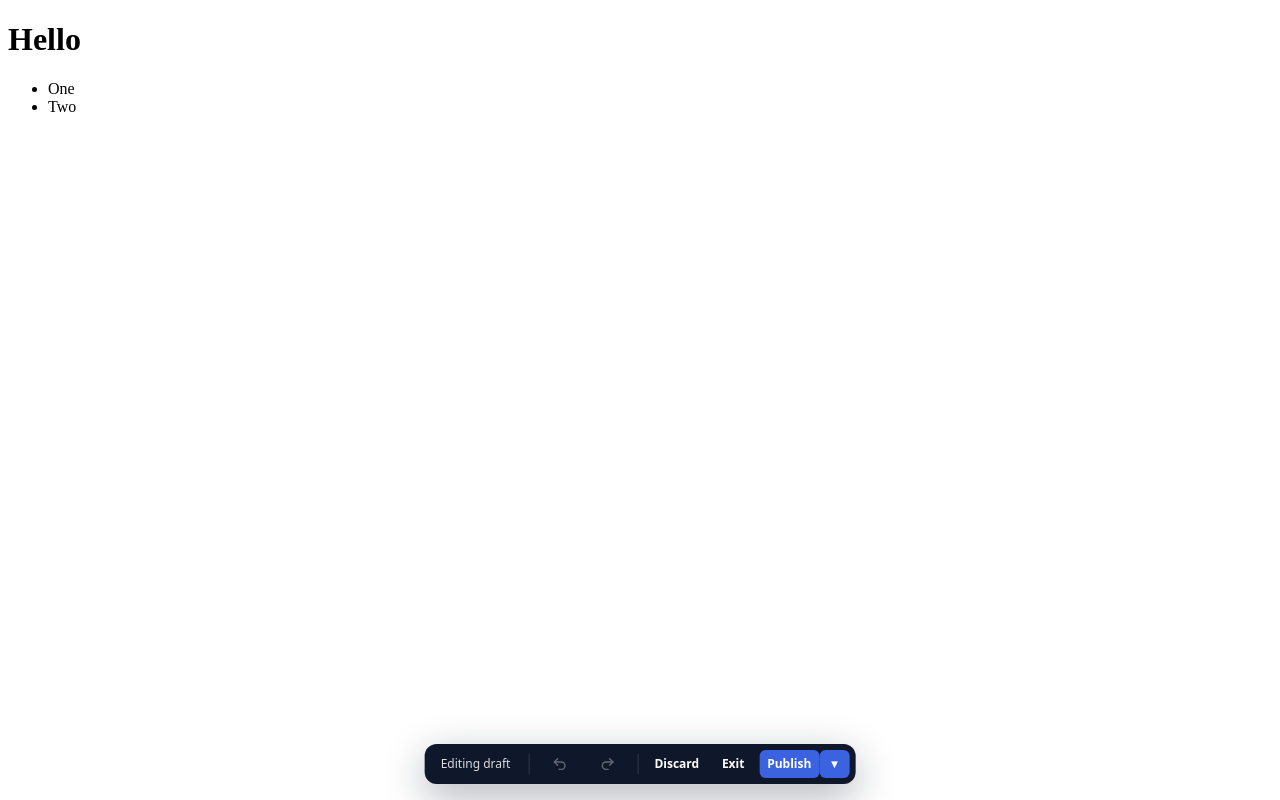
Test case: OnPageEditor › click a field, type, commit: the change is saved
Check: the message with test id "onpage-status" reads "Editing draft", box 441,755 -> 510,772
Click the heading "Hello" at (44, 39), box 8,21 -> 81,57
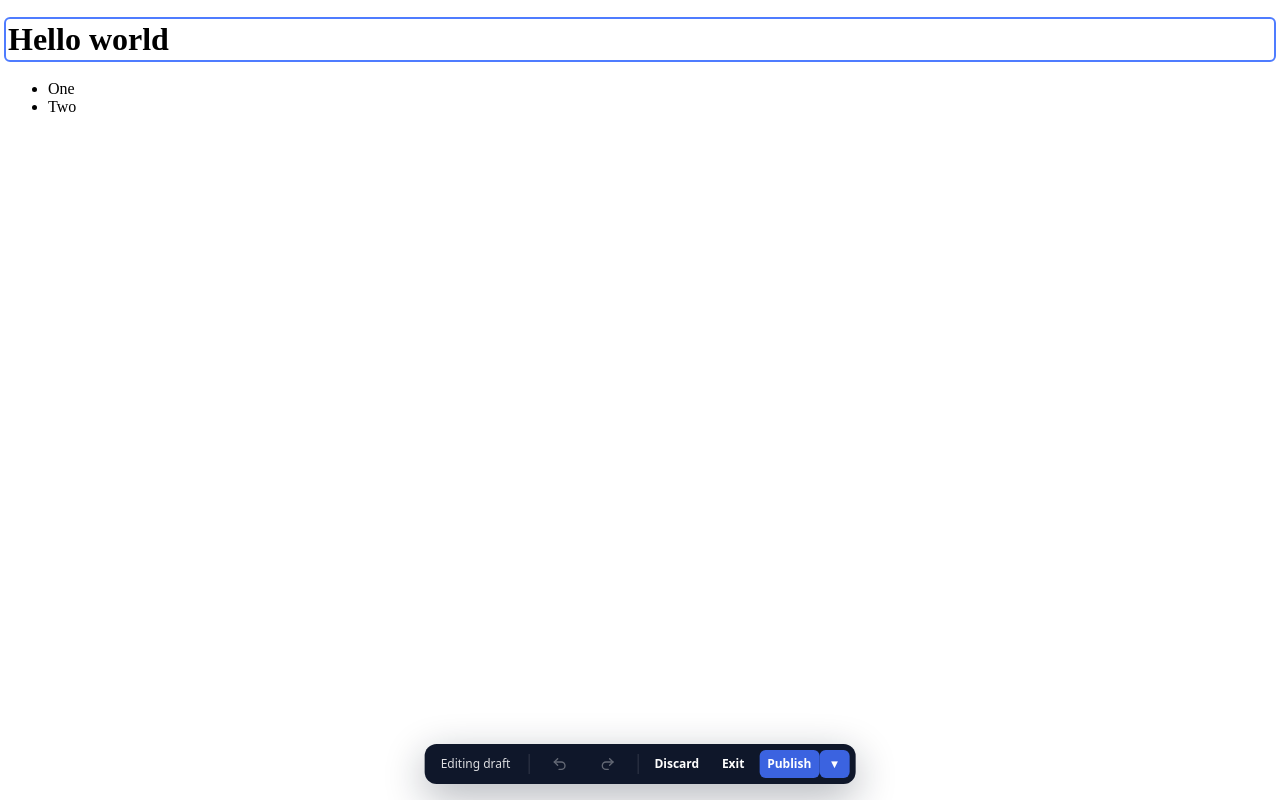
Press Enter in the field with test id "onpage-inline-text", box 8,21 -> 169,57
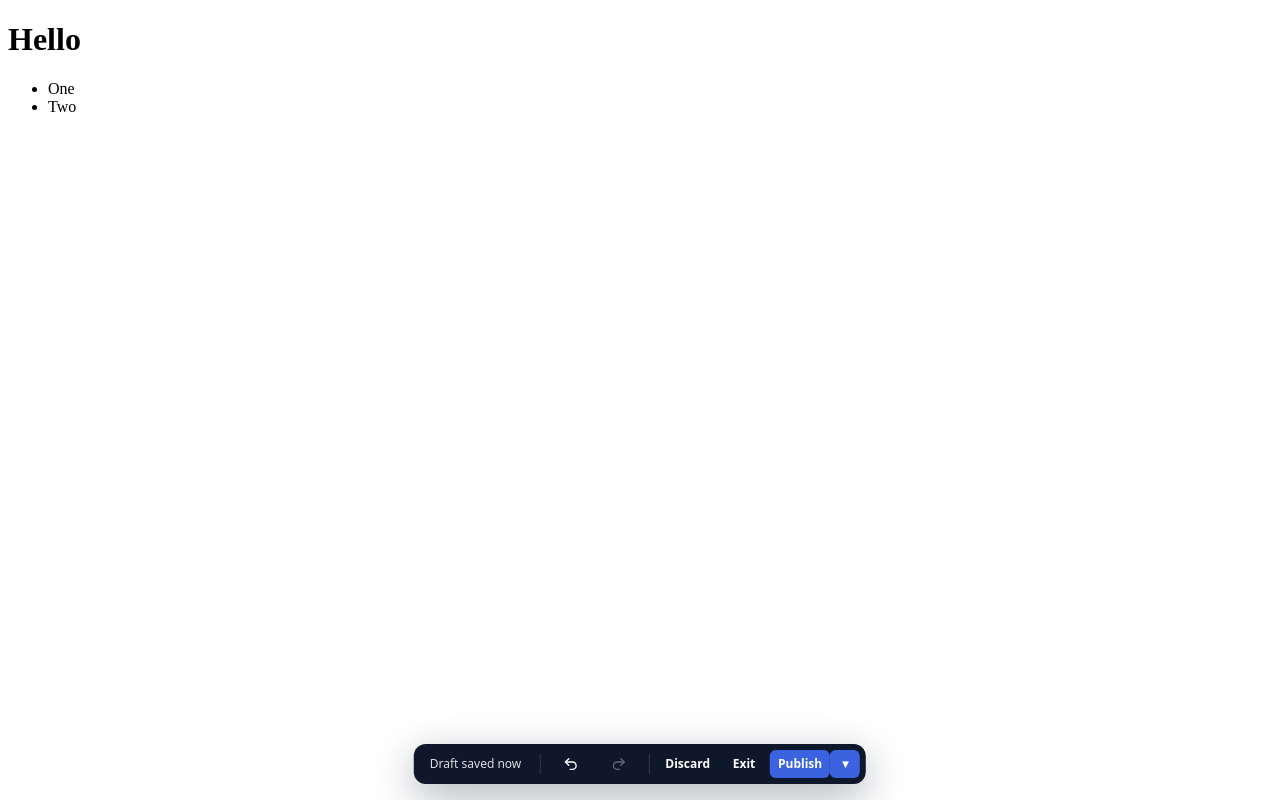
Check: the field with test id "onpage-inline-text" is gone
